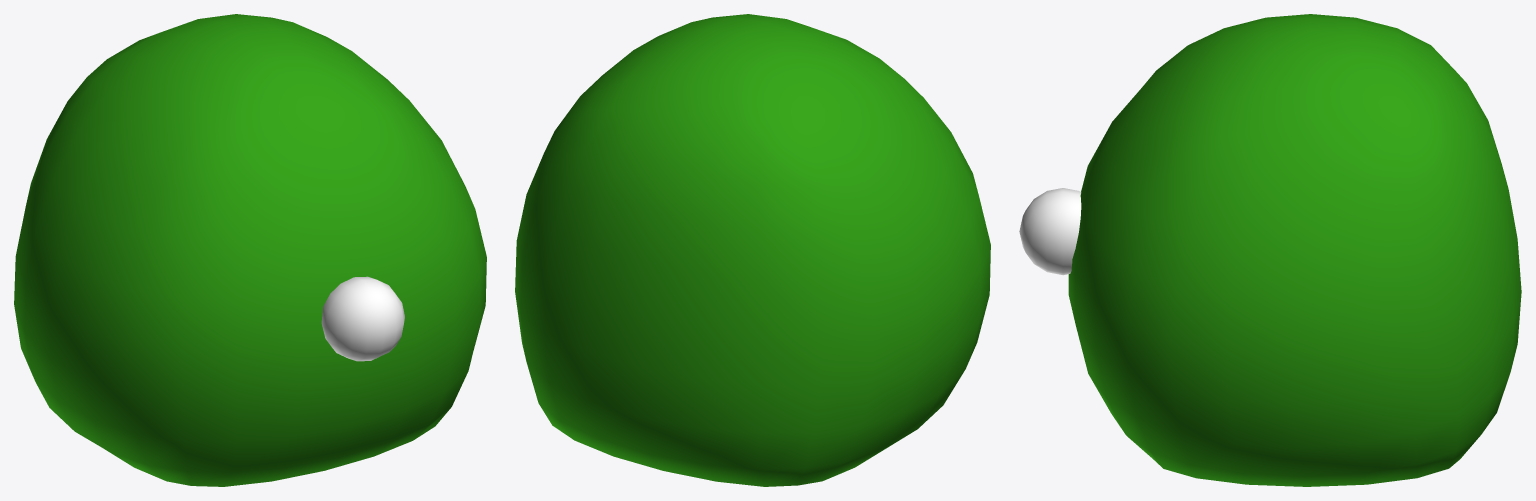
The model's file is Slime_03.fbx.
3 views of the same model, side by side, from view 1: azimuth 30°, elevation 25°; view 2: azimuth 150°, elevation 25°; view 3: azimuth 270°, elevation 25° (orthographic).
Visible parts, largest first — view 1: Slime_03; view 2: Slime_03; view 3: Slime_03.
Part boxes in pixels (x1,y1,x2,y2): Slime_03: (14,14,486,486); Slime_03: (515,14,990,486); Slime_03: (1019,14,1521,486).
Bounding box in the file's own units: 0.5069 × 0.4719 × 0.5389.
